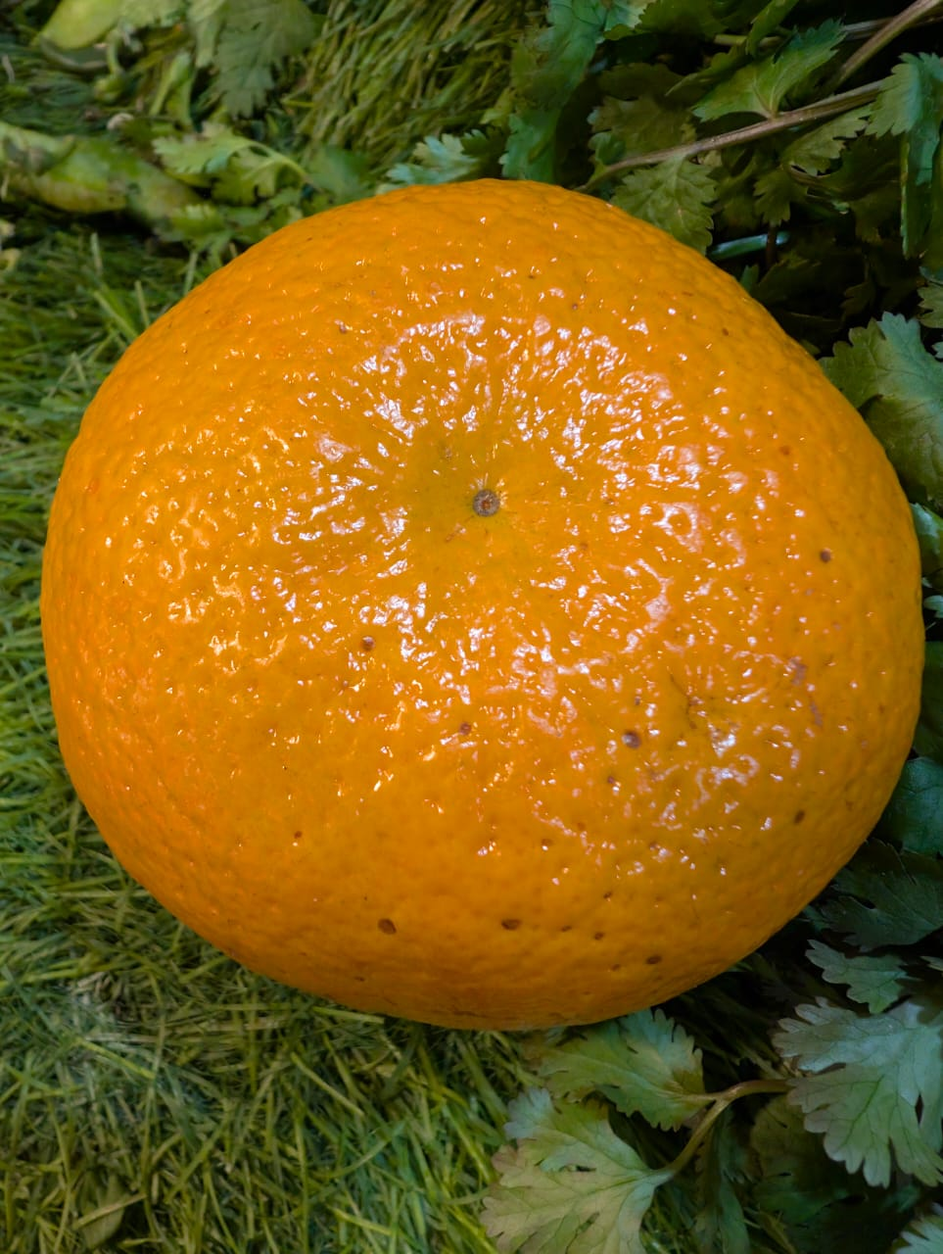orange: (88, 284, 830, 1146)
